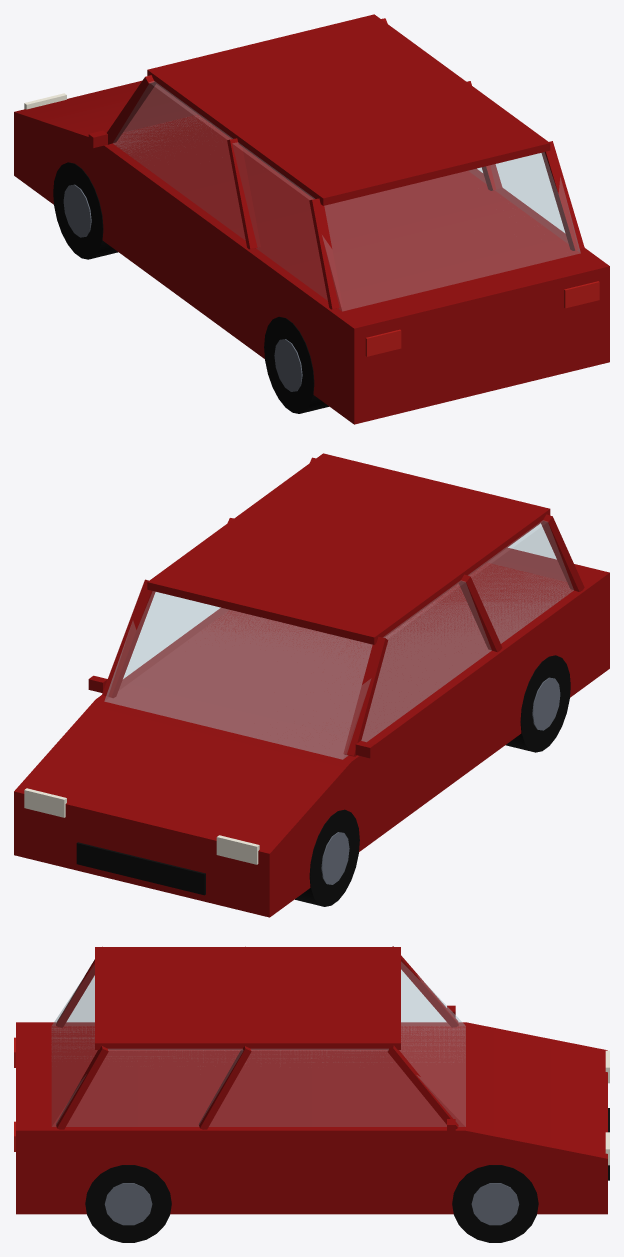
Rendered from vehicle.car.hatchback_red.glb.
3 views of the same model, one above another, from view 1: azimuth 30°, elevation 25°; view 2: azimuth 150°, elevation 25°; view 3: azimuth 270°, elevation 25° (orthographic). The views are drawn at different scales.
Visible parts, largest first — view 1: main__car_red, main__glass, main__rubber, main__steel_painted, main__hazard_red; view 2: main__car_red, main__glass, main__rubber, main__plastic_black, main__steel_painted, main__light_emitter; view 3: main__car_red, main__glass, main__rubber, main__steel_painted.
Part boxes in pixels (x1=…): main__car_red: x1=14, y1=14, x2=609, y2=424; main__glass: x1=113, y1=81, x2=580, y2=310; main__rubber: x1=53, y1=162, x2=328, y2=413; main__steel_painted: x1=63, y1=184, x2=302, y2=391; main__hazard_red: x1=365, y1=281, x2=599, y2=356; main__car_red: x1=14, y1=453, x2=609, y2=917; main__glass: x1=104, y1=520, x2=573, y2=759; main__rubber: x1=295, y1=655, x2=570, y2=906; main__plastic_black: x1=76, y1=842, x2=205, y2=895; main__steel_painted: x1=321, y1=677, x2=560, y2=884; main__light_emitter: x1=24, y1=788, x2=259, y2=864; main__car_red: x1=16, y1=946, x2=607, y2=1214; main__glass: x1=52, y1=962, x2=465, y2=1126; main__rubber: x1=85, y1=1165, x2=538, y2=1242; main__steel_painted: x1=104, y1=1183, x2=519, y2=1225.
Bounding box in the file's own units: 1.96 × 1.48 × 4.13.
